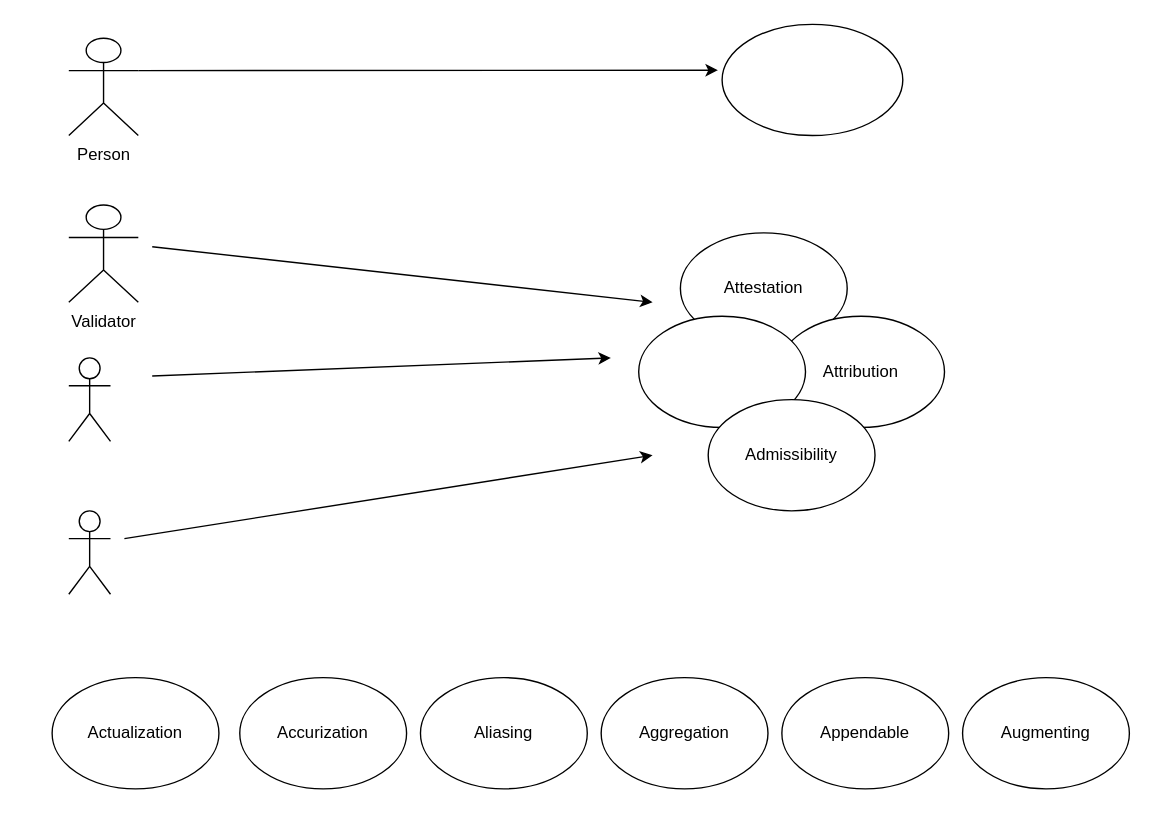
This 1154x813 diagram has some shape labels left out. Here are the shapes that lost their labels. From the top down, the centre of each, then its label:
At (812,79): "Gather KYC/AML Related Information".
At (721,371): "Accessibillity".
At (89,399): "Special Institution".
At (89,551): "Corporate".
